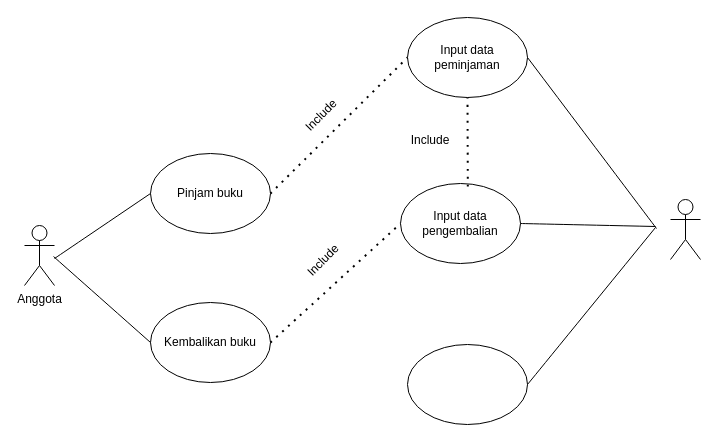
The diagram is 725 pixels wide and 442 high, and some of its shapes have lost their labels. The centre of each missing label's shape, as x and y in pixels:
Laporan peminjaman: [467,384]
Petugas: [685,229]
